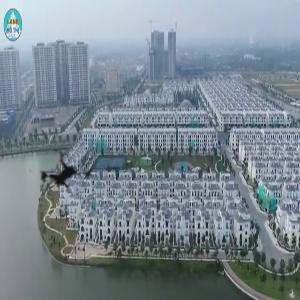drone: (16, 121, 119, 224)
